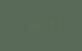four: (34, 20, 41, 30)
one: (42, 19, 49, 30), (17, 22, 24, 32)
seven: (25, 21, 32, 31)
zero: (50, 19, 57, 29), (58, 18, 65, 28)
